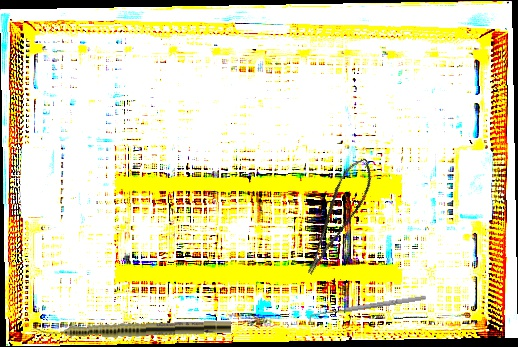Handpiece: (32, 317, 232, 341)
Hook Surgical: (306, 293, 429, 324)
Micro Scissor: (287, 153, 384, 277)
